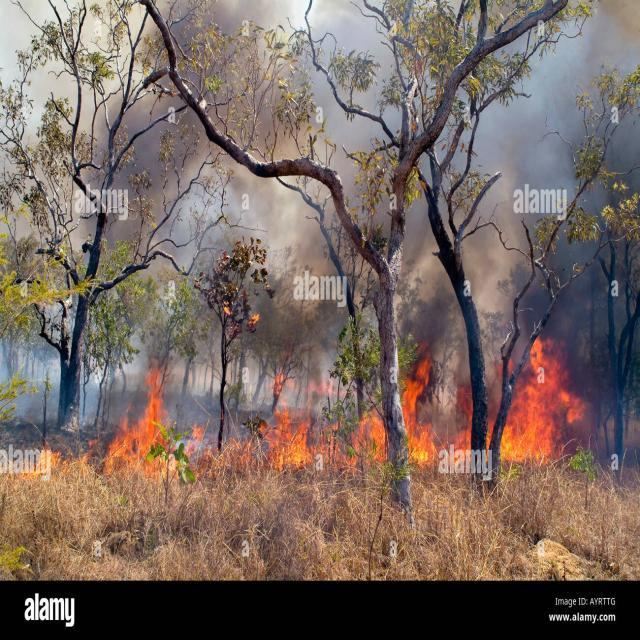Fire: (403, 336, 590, 472), (245, 395, 389, 475), (105, 368, 166, 471), (0, 434, 98, 481), (175, 424, 204, 460), (246, 313, 260, 332)
Smoke: (73, 0, 392, 164), (474, 30, 640, 326), (102, 174, 234, 360), (263, 170, 366, 382)
